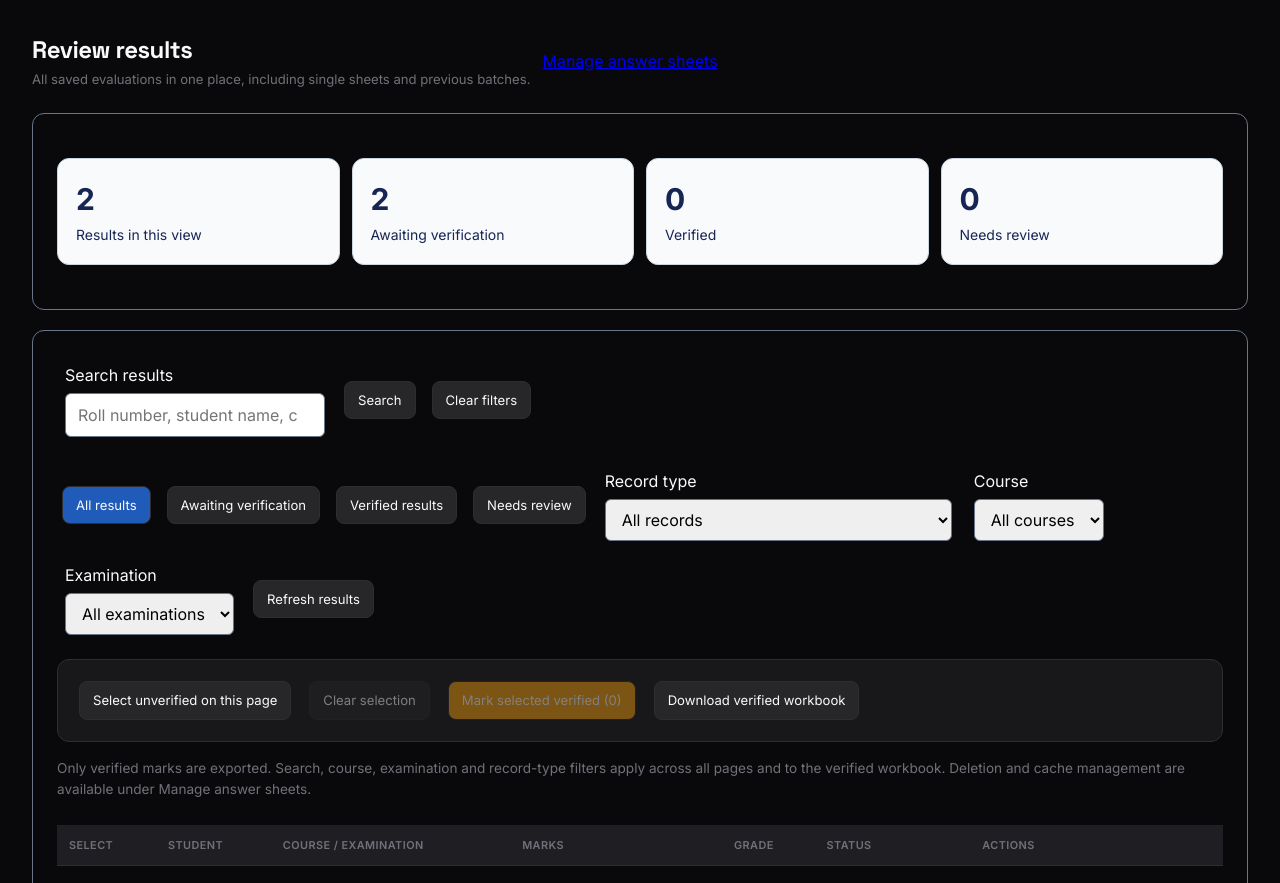
Scenario: partial verification refreshes rows and retains the failure message
Click the button "Select unverified on this page". click: x=185, y=700
box: [79,681,291,720]
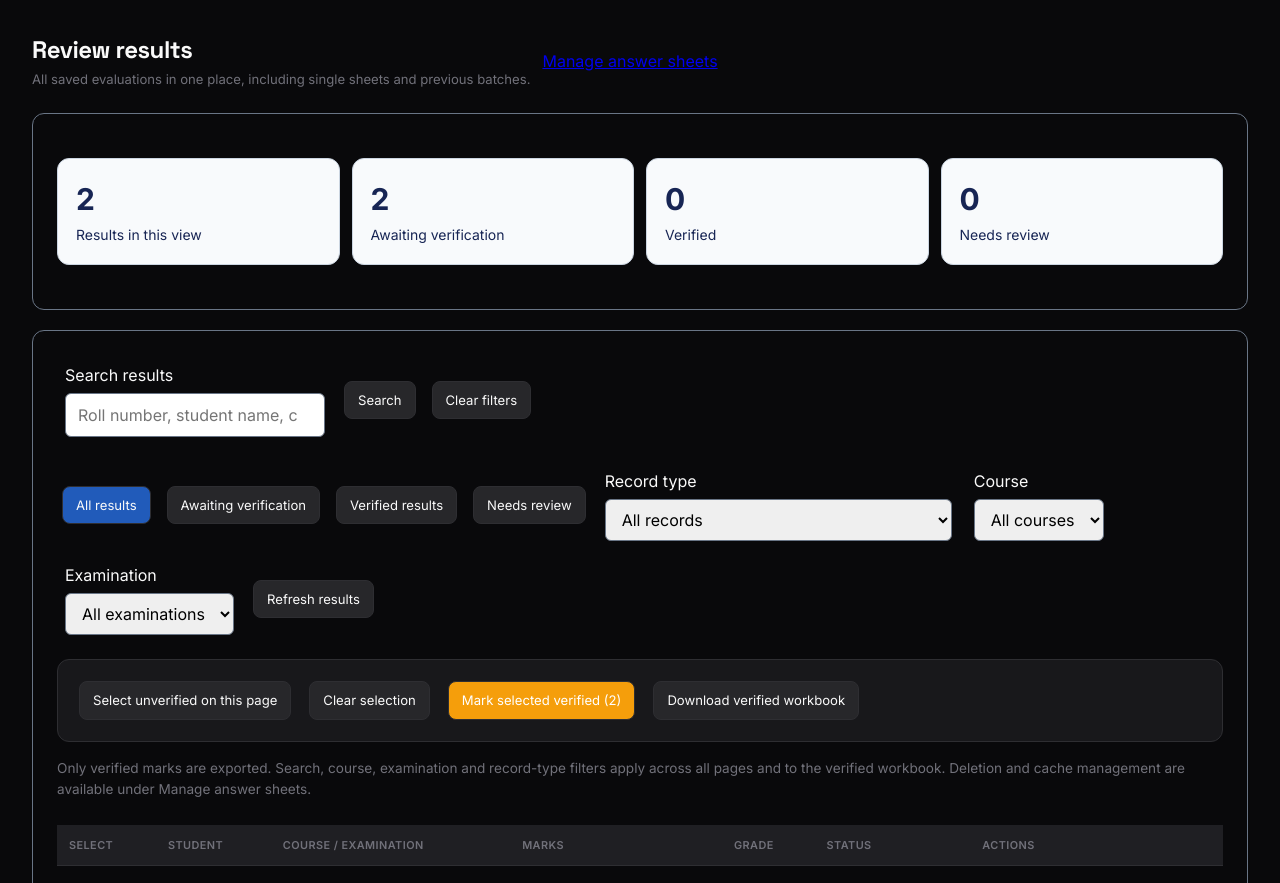
Click the button "Mark selected verified (2)". click: x=542, y=700
box: [448,681,635,720]
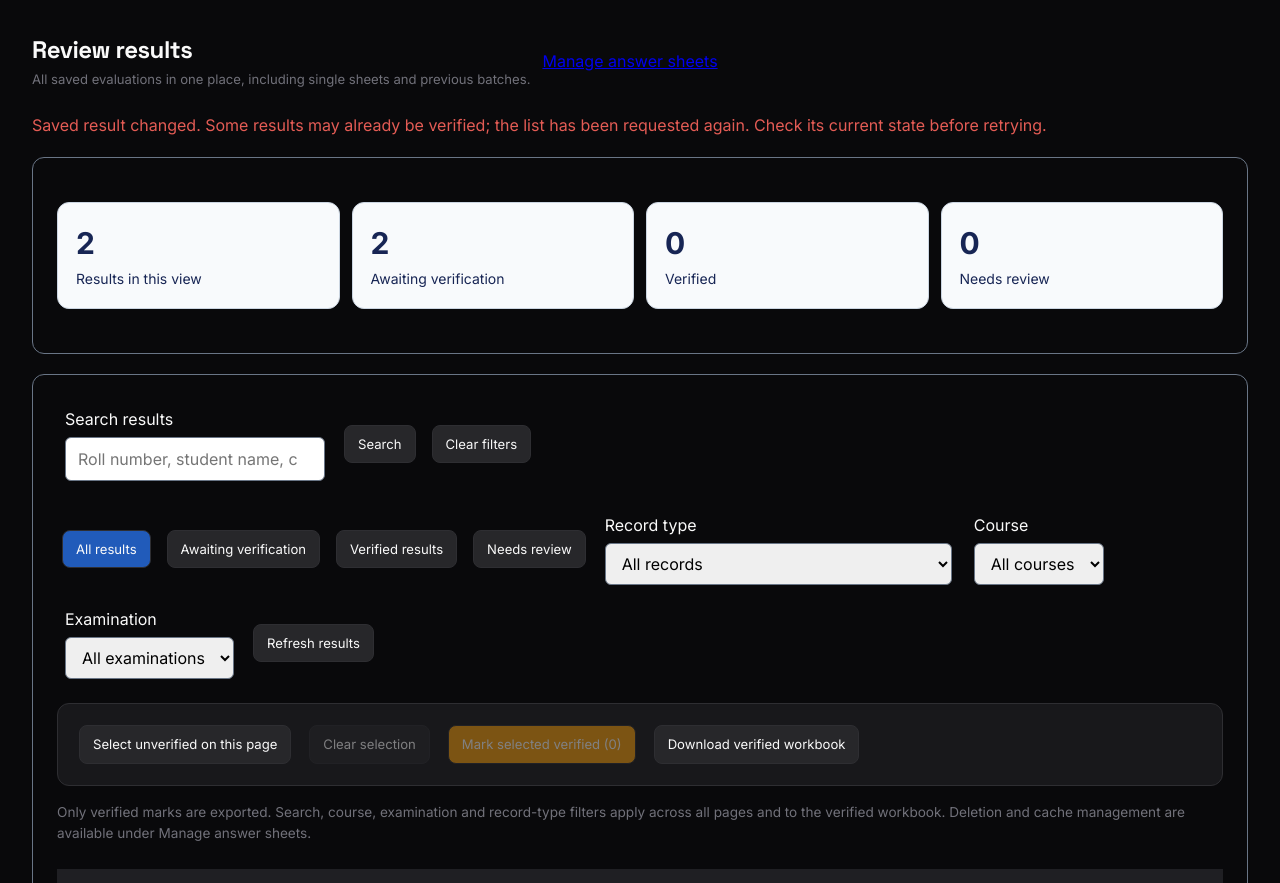
Expected: the message shows "Saved result changed", [32,115,1047,135]
Expected: the button "Mark selected verified (0)" is disabled, [448,725,636,764]
